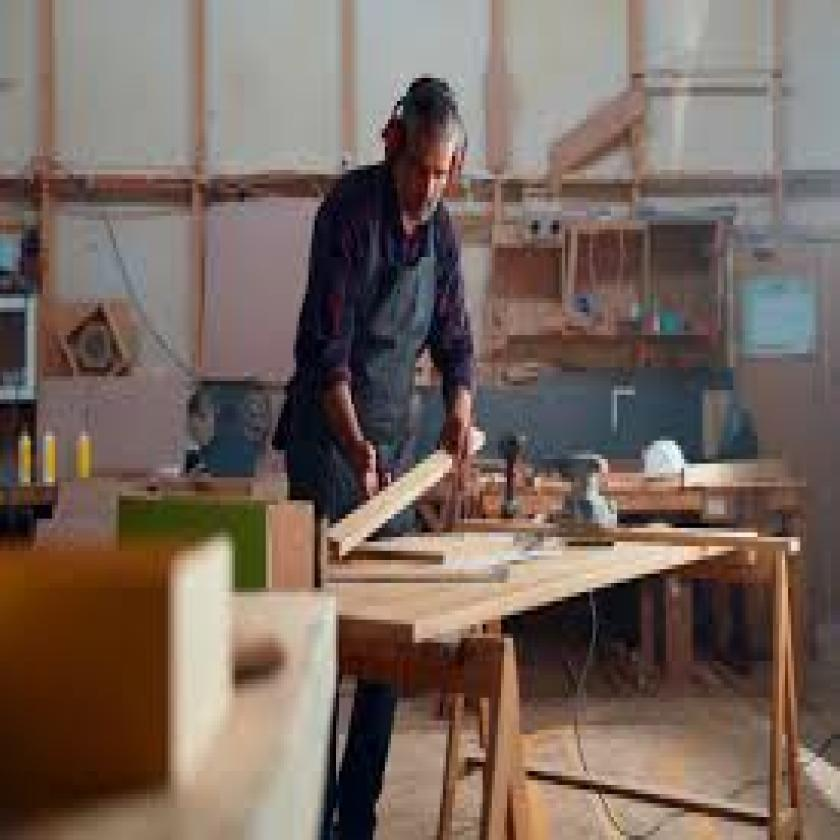Sin_casco: (372, 72, 474, 219)
